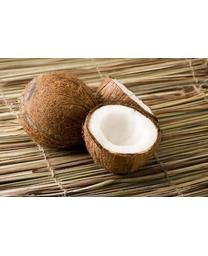coconut: (17, 72, 97, 150), (83, 102, 160, 174)
